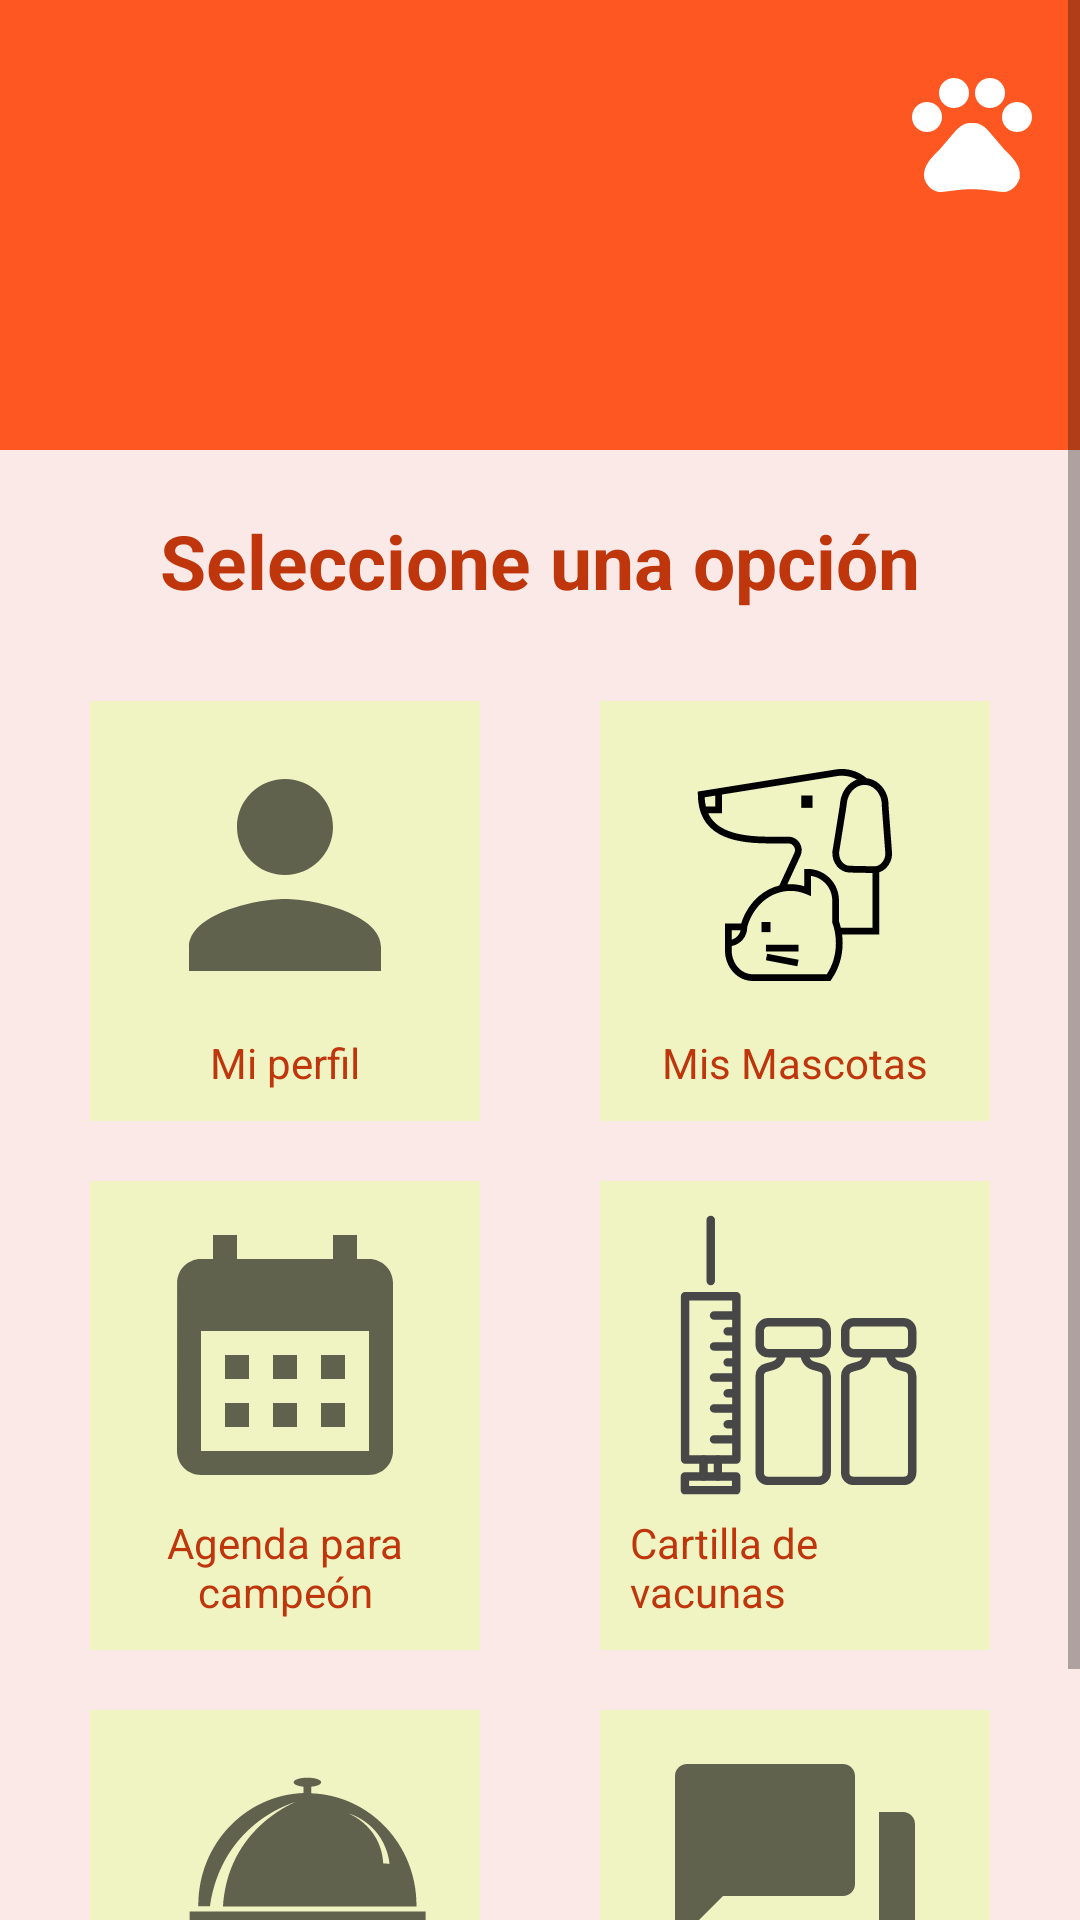

Screen size 1080px x 1920px. Icon name, then its center in pixels as (x,y):
calendario: (285,1355)
inyeccion: (798,1355)
pets: (972,135)
